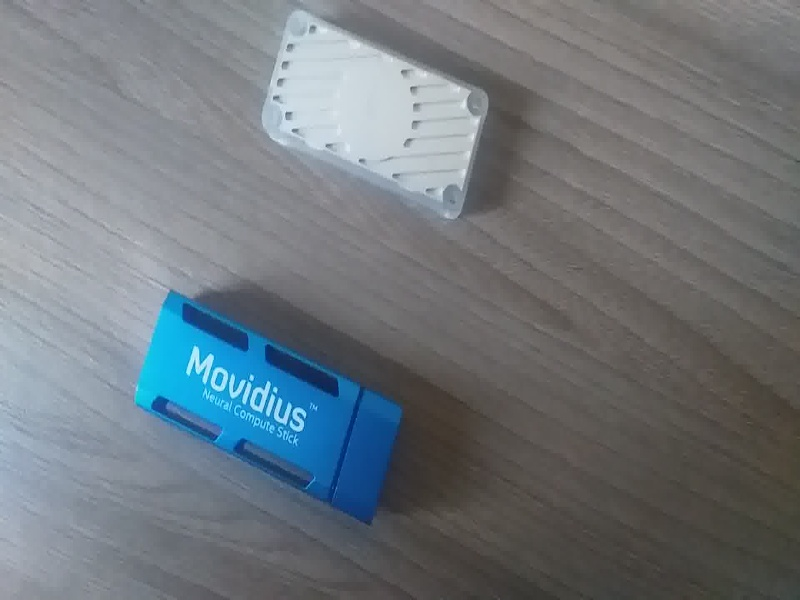coral: (246, 8, 498, 220)
movidius: (127, 286, 410, 535)
